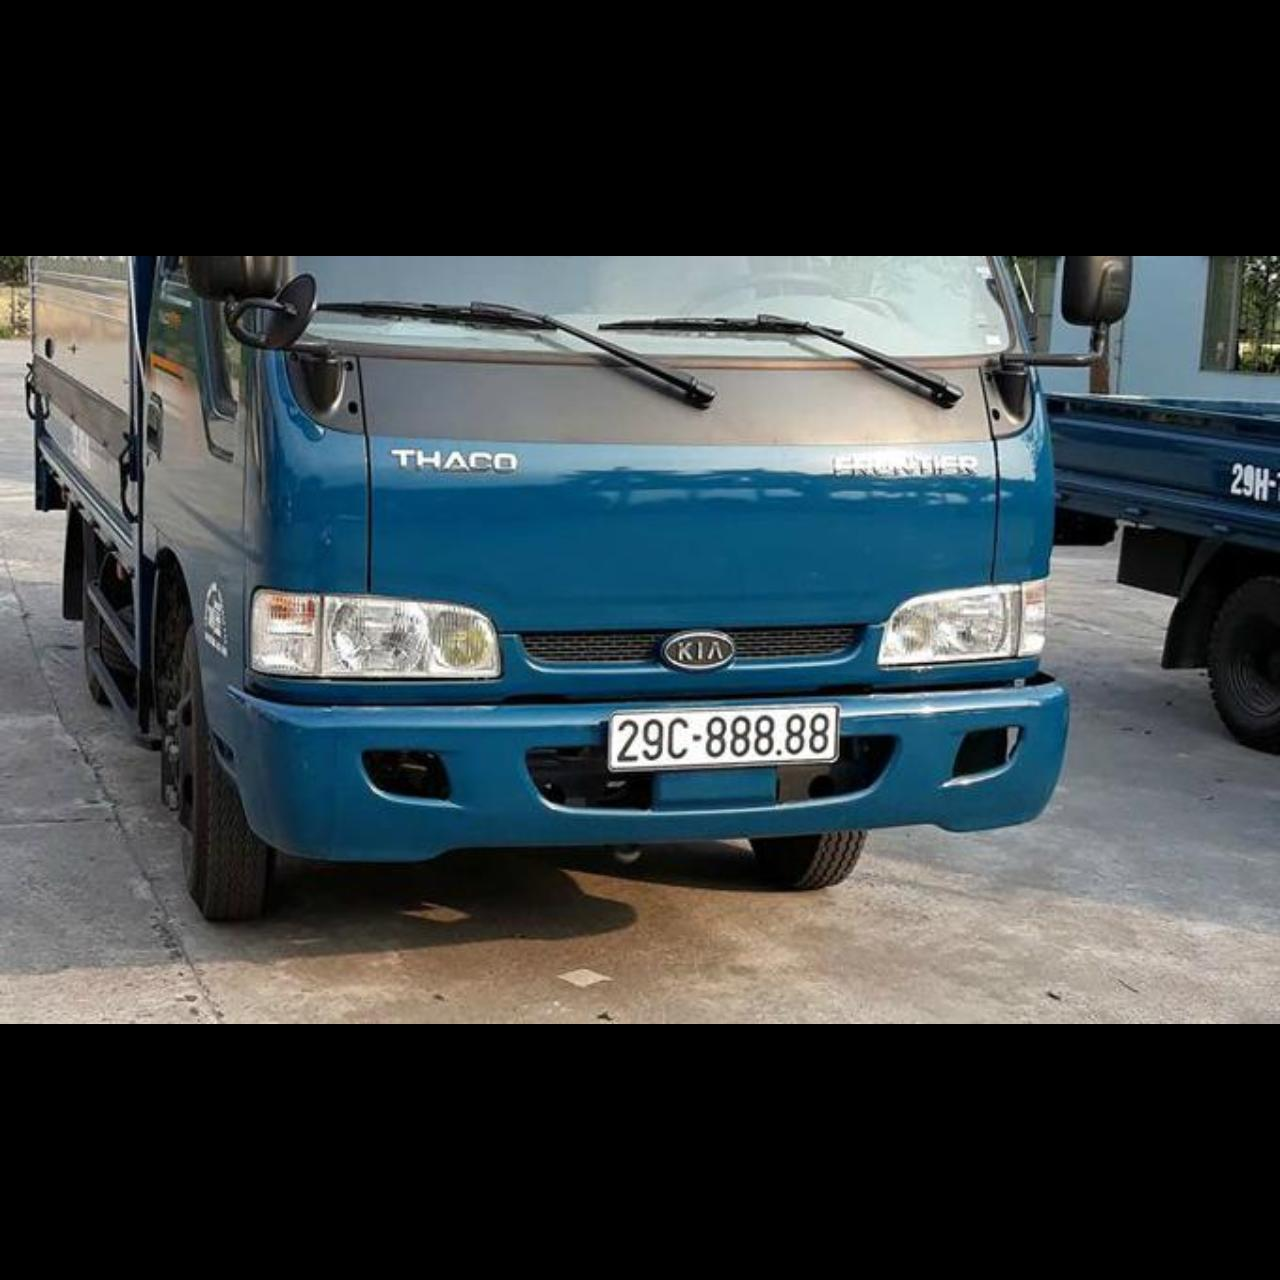bienso: (608, 704, 841, 772)
